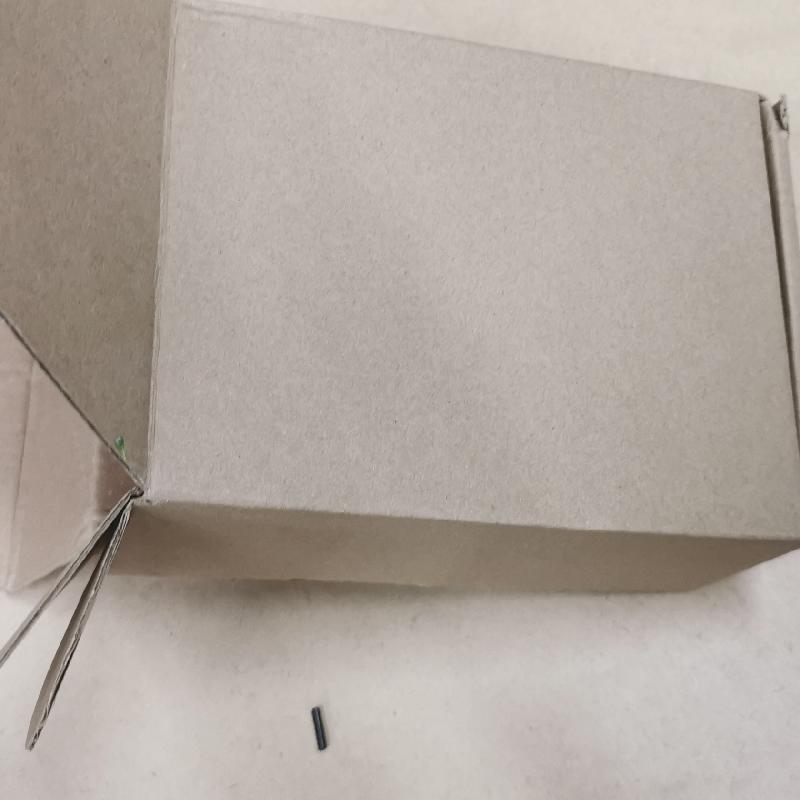boxes: (4, 0, 799, 732)
